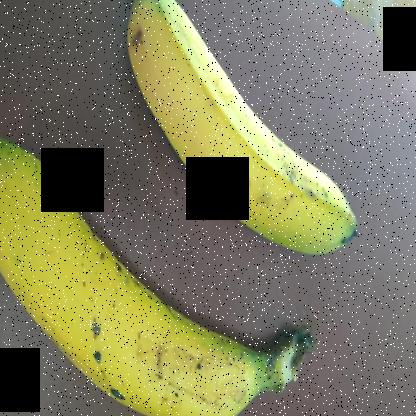freshripe: (118, 1, 378, 264)
ripe: (0, 139, 273, 416)
